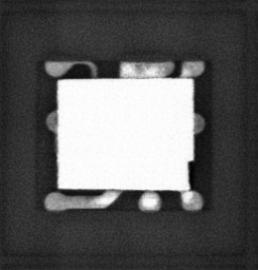DIE_BROKEN: (186, 159, 196, 190)
